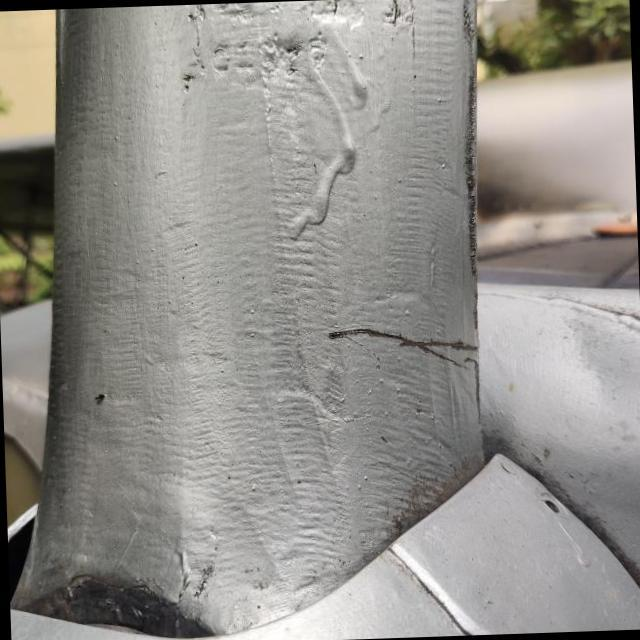Fastener Damage: (520, 475, 582, 539)
